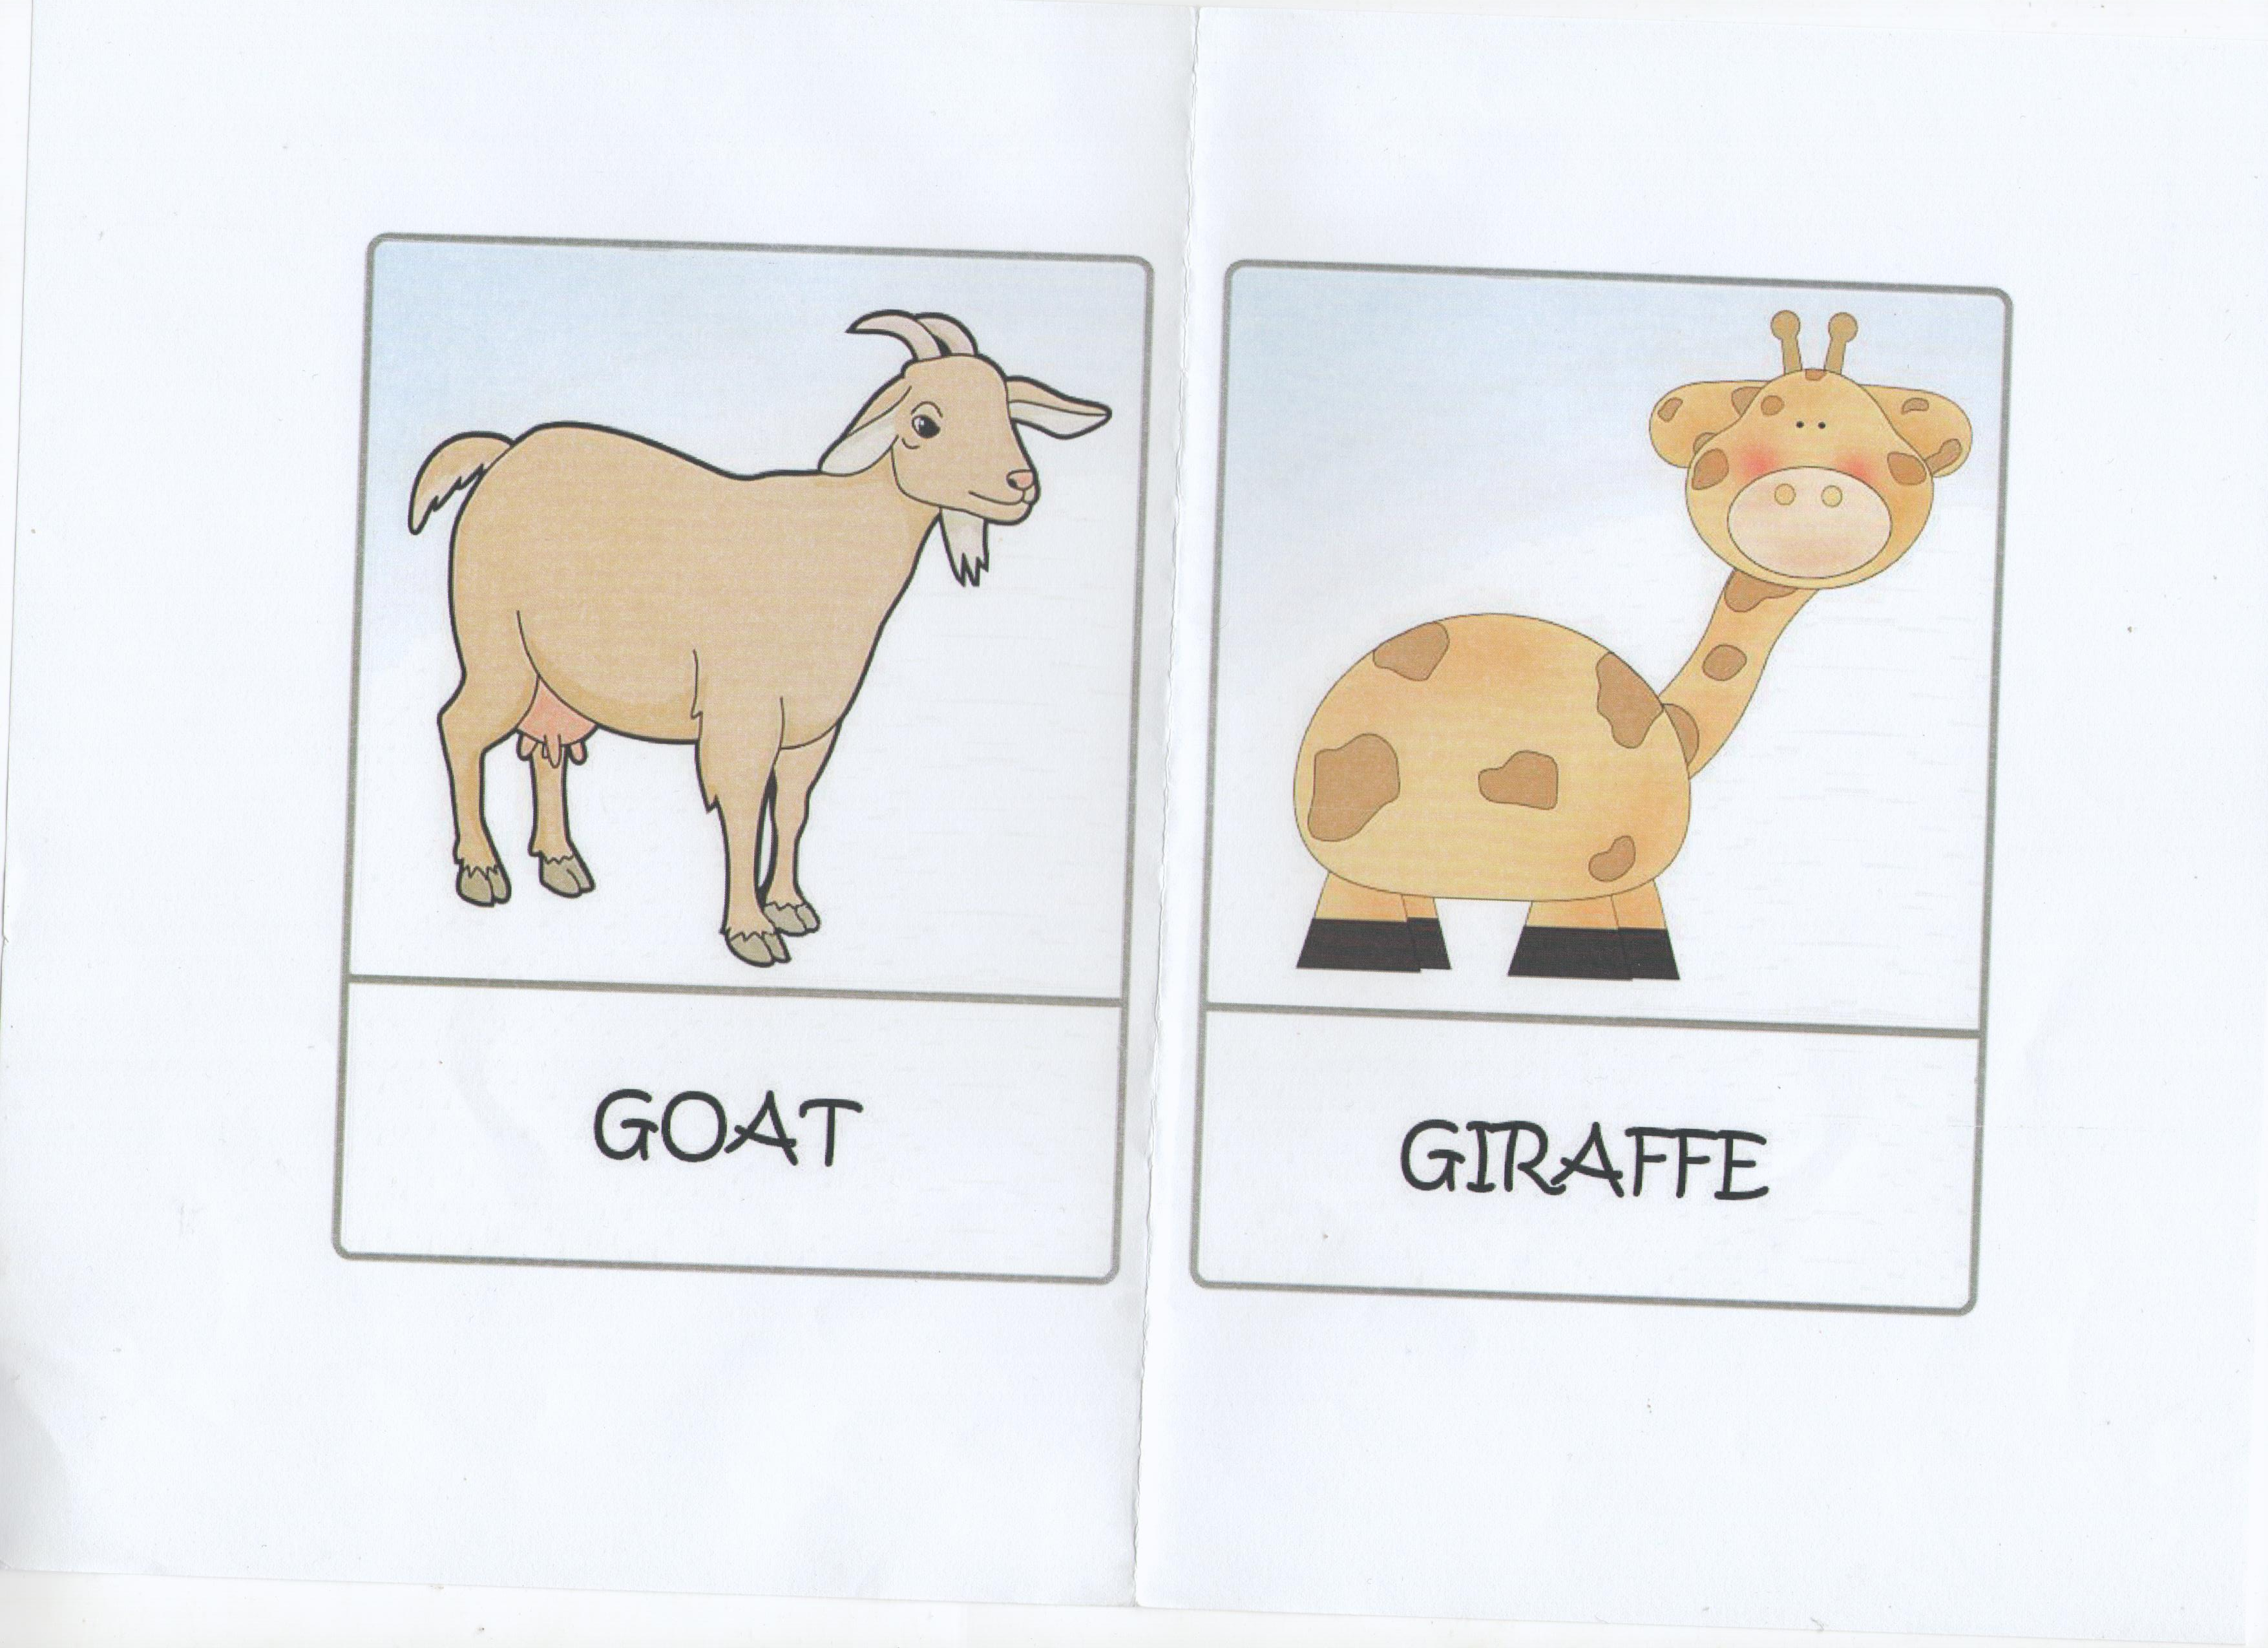capra: (385, 248, 1111, 1253)
giraffa: (1258, 271, 1988, 1263)
